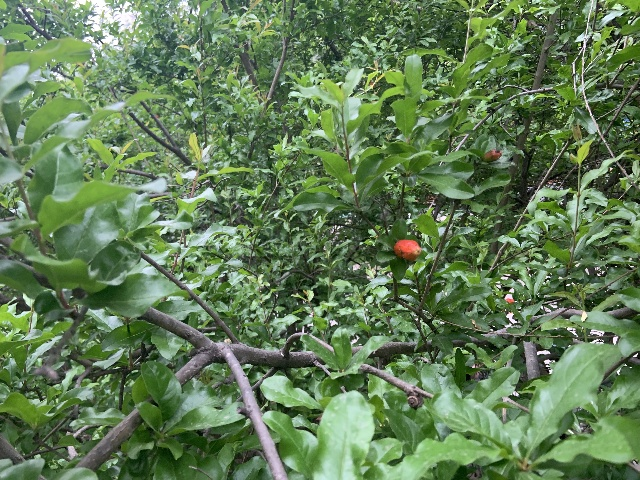bud: (393, 239, 422, 260), (483, 149, 502, 161)
flower: (504, 298, 514, 303)
